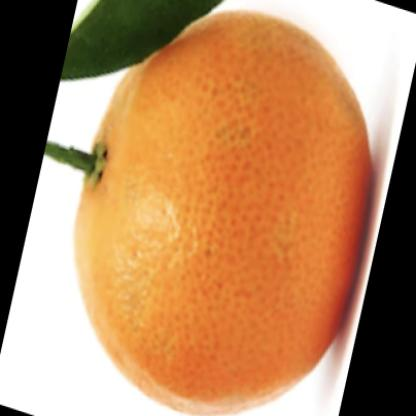fresh: (76, 7, 374, 416)
